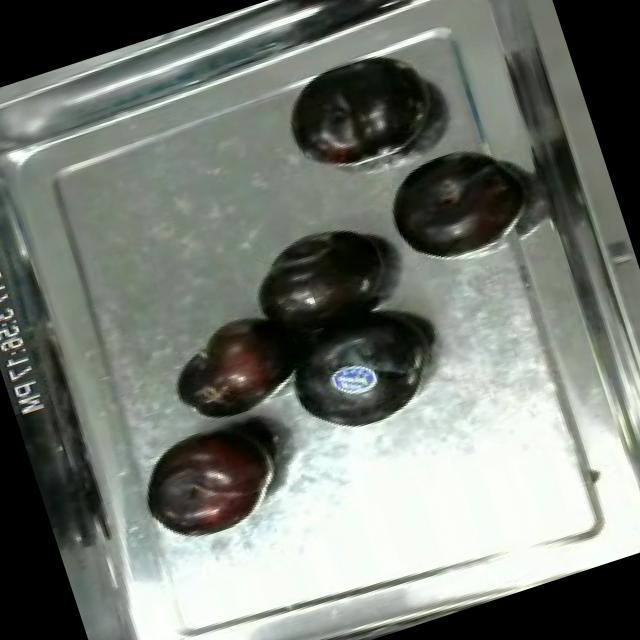Fruit: (266, 286, 457, 454), (125, 406, 296, 557), (267, 40, 438, 190), (370, 134, 535, 278), (234, 210, 403, 348), (154, 297, 318, 439)
